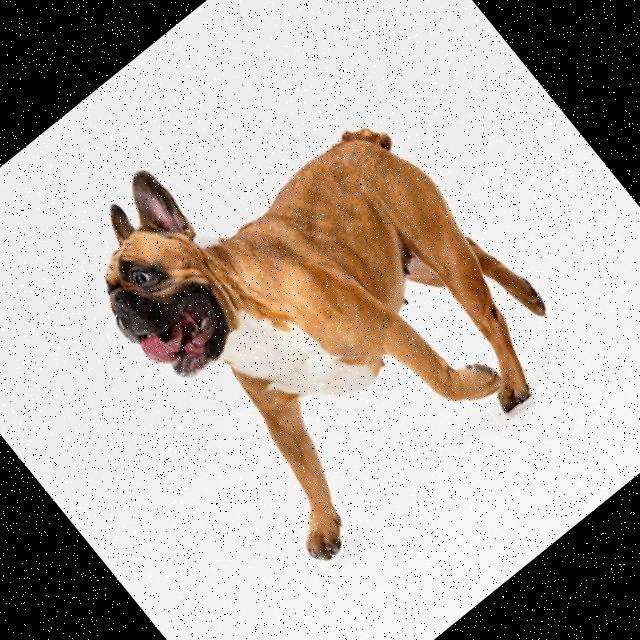Dog: (48, 21, 588, 574)
